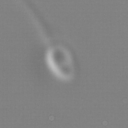normal: (14, 1, 53, 45)
